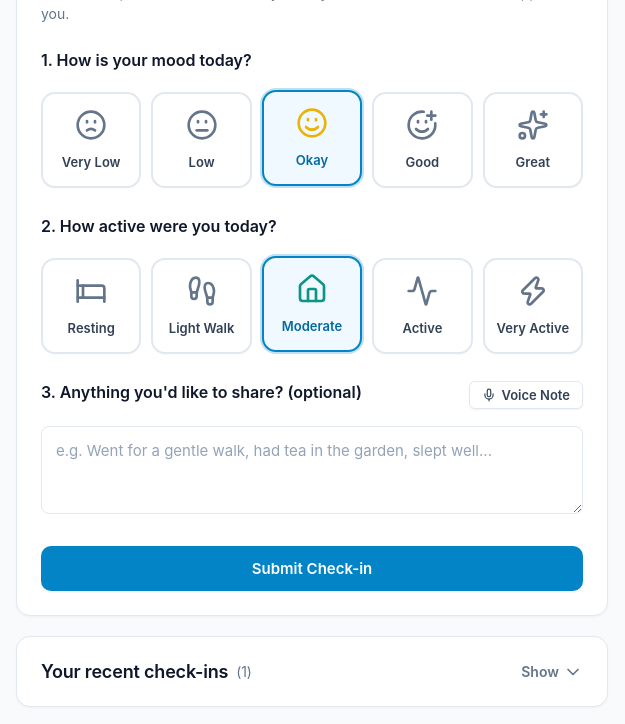
ElderCheckin › queues check-in when offline and shows pending state
(page scrolled)
Click the button "Submit Check-in" at (312, 568), box x1=41 y1=546 x2=583 y2=591
(page scrolled)
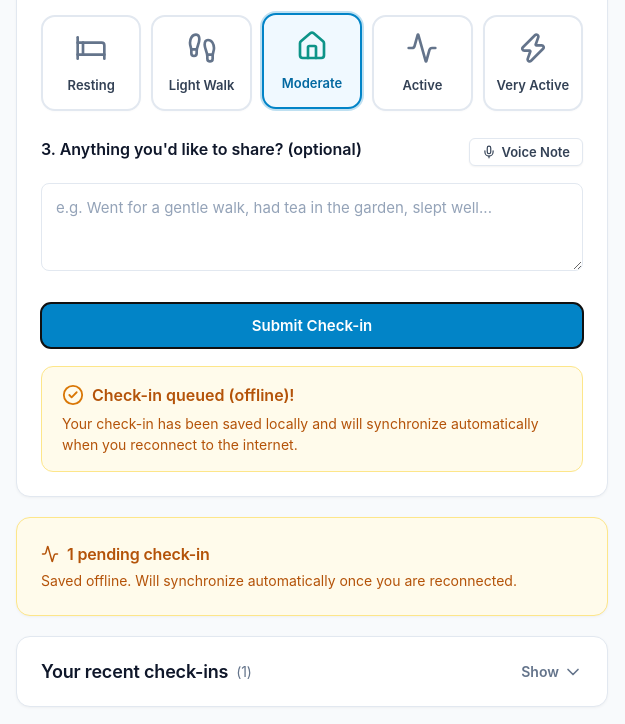
Result: the text "Check-in queued (offline)!" is shown at x1=62 y1=384 x2=294 y2=406
Result: the heading "1 pending check-in" is shown at x1=41 y1=544 x2=210 y2=564
